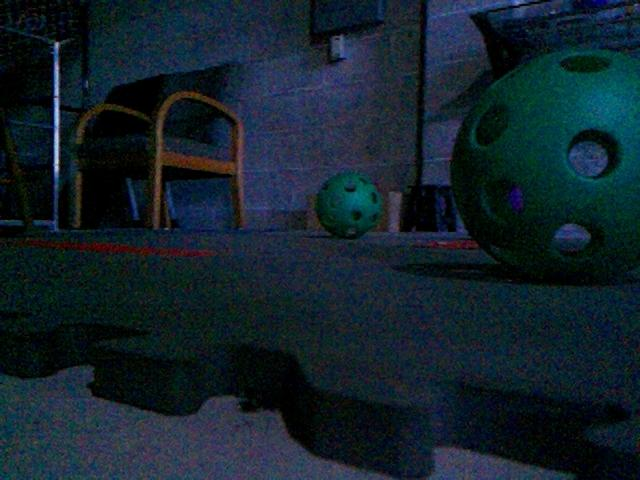Green: (450, 45, 640, 287), (316, 175, 383, 238)
